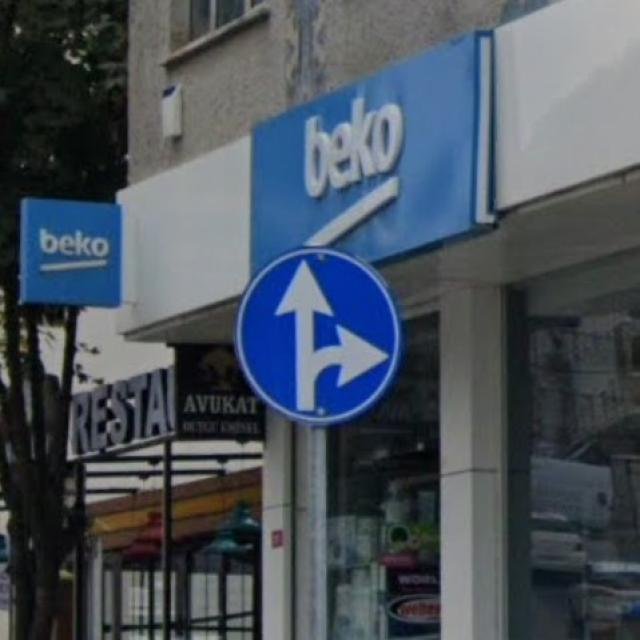ilerisag: (234, 247, 402, 426)
